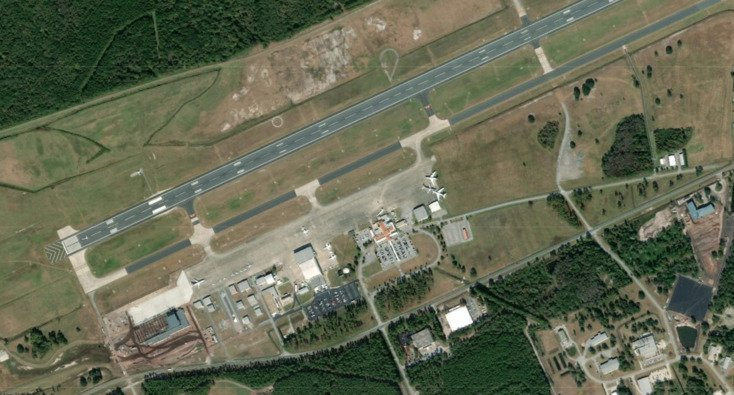w: (431, 185, 445, 201), (425, 169, 438, 186), (190, 276, 203, 289), (300, 223, 309, 237), (323, 242, 331, 250), (329, 254, 336, 262)
